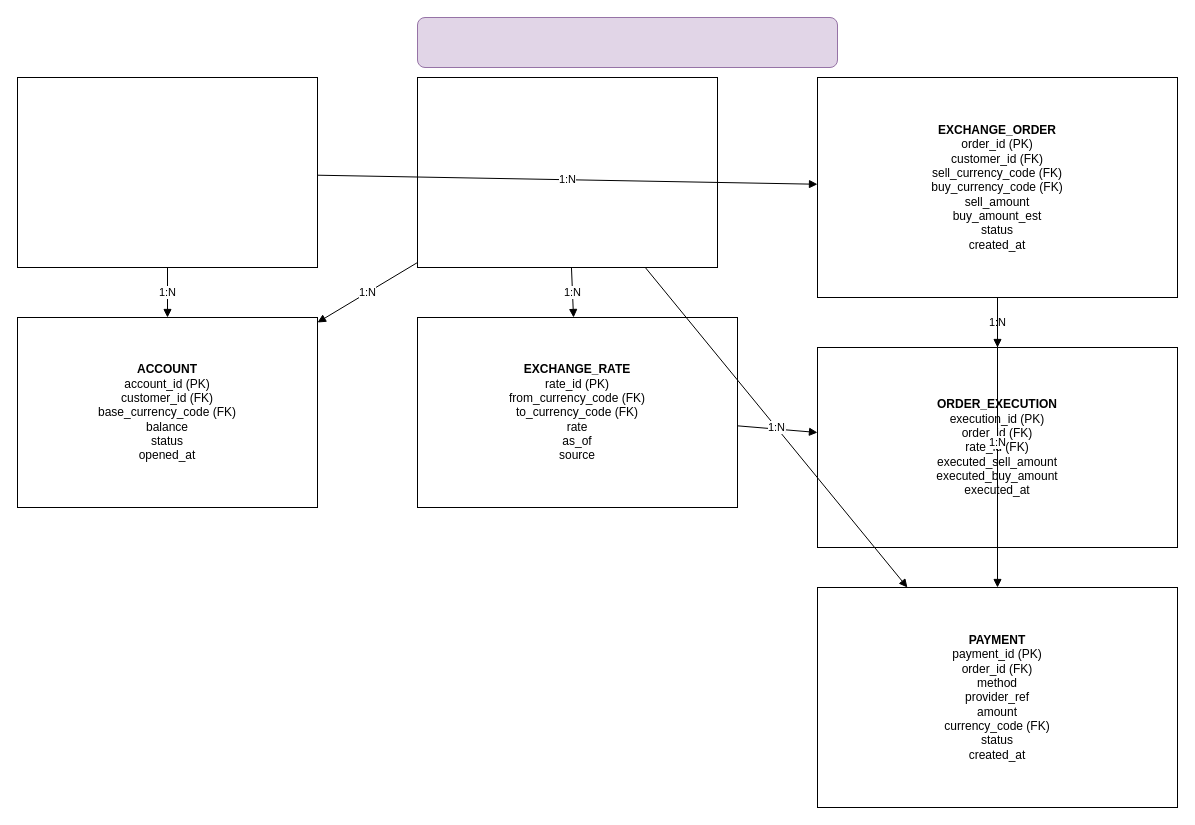
Some shapes in this 1195 by 825 pixel diagram are drawn without their labels. Here are the shapes that lost their labels. From the top down, the centre of each, then its label:
At (x=627, y=42): "Money Exchange ER (>=5 entities, each >=5 attributes)".
At (x=167, y=172): "CUSTOMER customer_id (PK) full_name email phone kyc_status created_at".
At (x=567, y=172): "CURRENCY currency_code (PK) currency_name symbol decimals country is_active".
